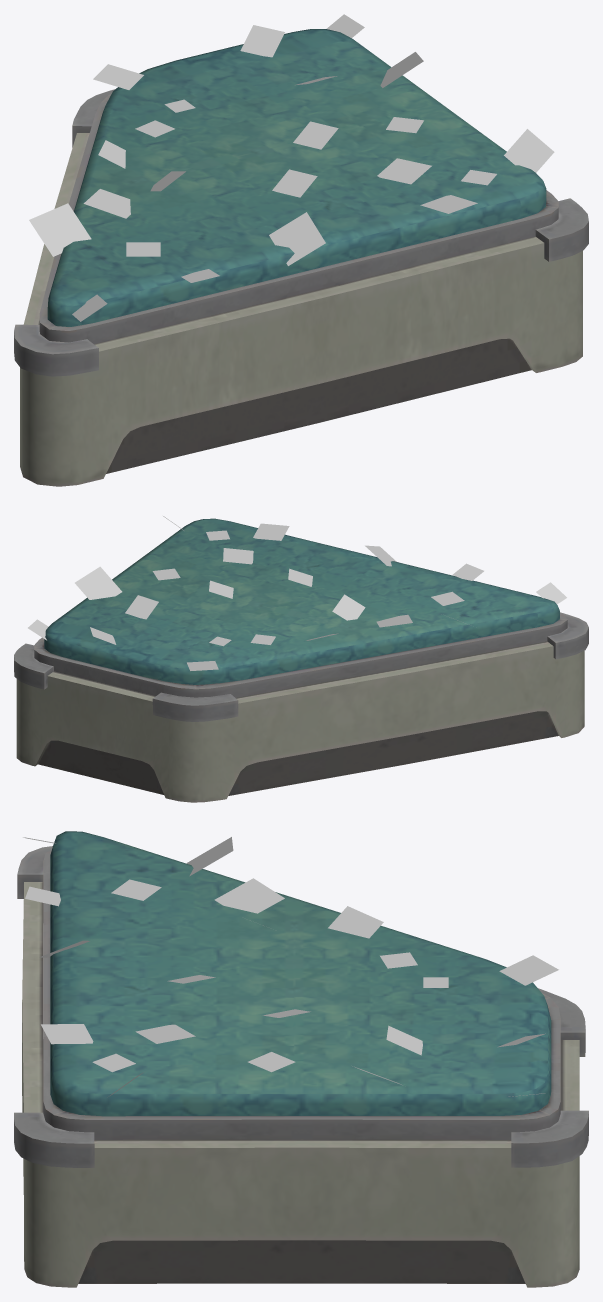
File: pref_sm_city_parterre03_snow_lv3.fbx
The picture shows the model from 3 angles, top to bottom: view 1: azimuth 30°, elevation 25°; view 2: azimuth 150°, elevation 25°; view 3: azimuth 270°, elevation 25°; orthographic projection. The views are drawn at different scales.
Parts seen in each view (by area): view 1: sm_city_parterre03_snow_lv3, sm_city_parterre03c_snow_lv3; view 2: sm_city_parterre03_snow_lv3, sm_city_parterre03c_snow_lv3; view 3: sm_city_parterre03_snow_lv3, sm_city_parterre03c_snow_lv3.
Part boxes in pixels (box(x1,y1,x2,y2)): sm_city_parterre03_snow_lv3: box(14, 29, 588, 486); sm_city_parterre03c_snow_lv3: box(29, 14, 554, 321); sm_city_parterre03_snow_lv3: box(14, 518, 588, 802); sm_city_parterre03c_snow_lv3: box(28, 516, 566, 670); sm_city_parterre03_snow_lv3: box(14, 831, 588, 1287); sm_city_parterre03c_snow_lv3: box(23, 837, 558, 1097).
Size of the model in its own units: 4.78 by 1.57 by 3.88.
